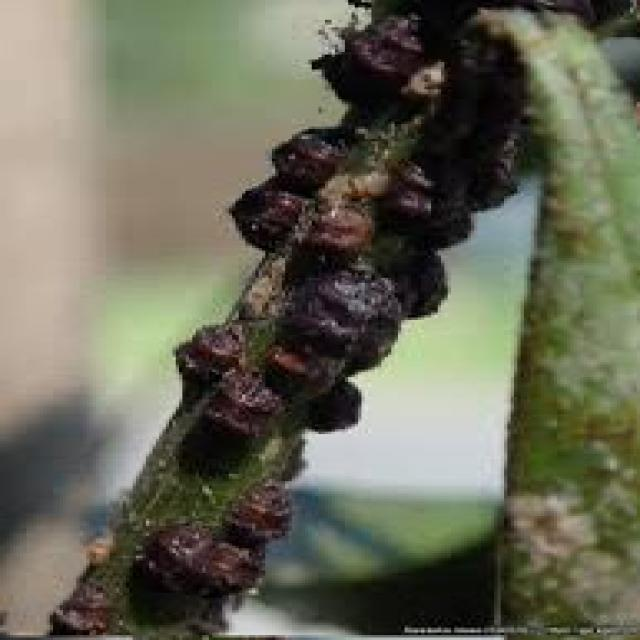Black Scale: (136, 479, 292, 595), (272, 265, 401, 392), (225, 127, 352, 251), (176, 318, 279, 444)
